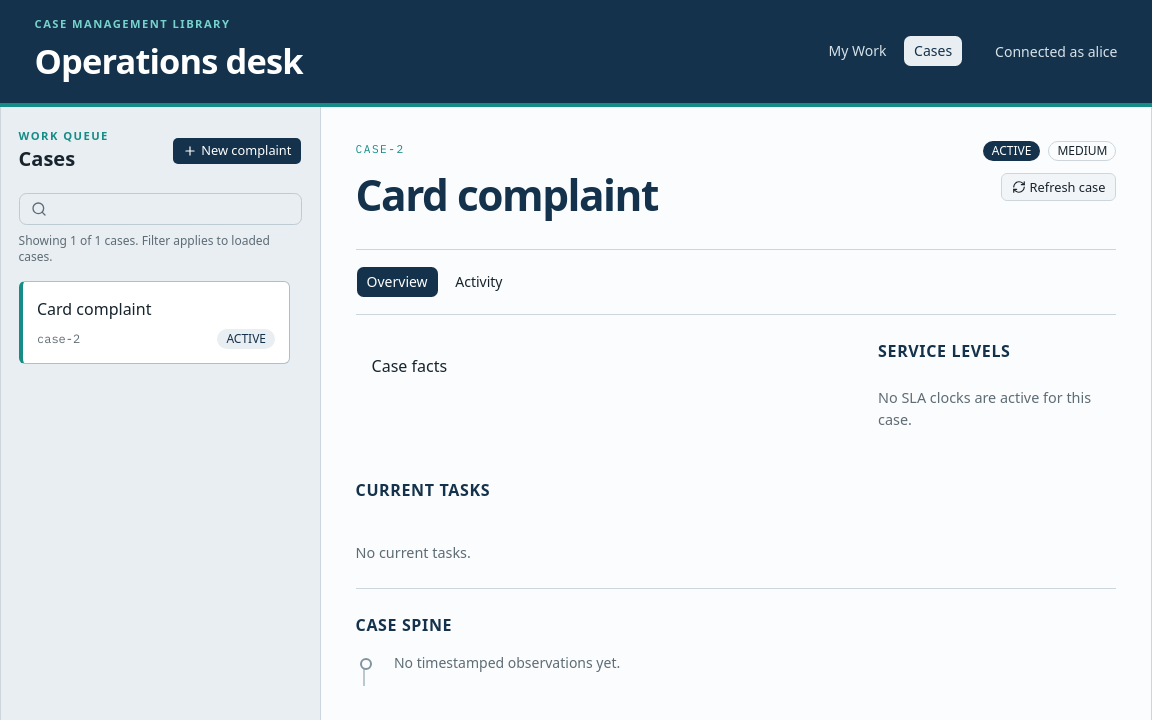
Test: case demo › opens a work item in the shared case workspace
What coordinates should you click on to do the following:
click the button "My Work"
I would click on:
 (858, 51)
Its box is [818, 35, 898, 67].
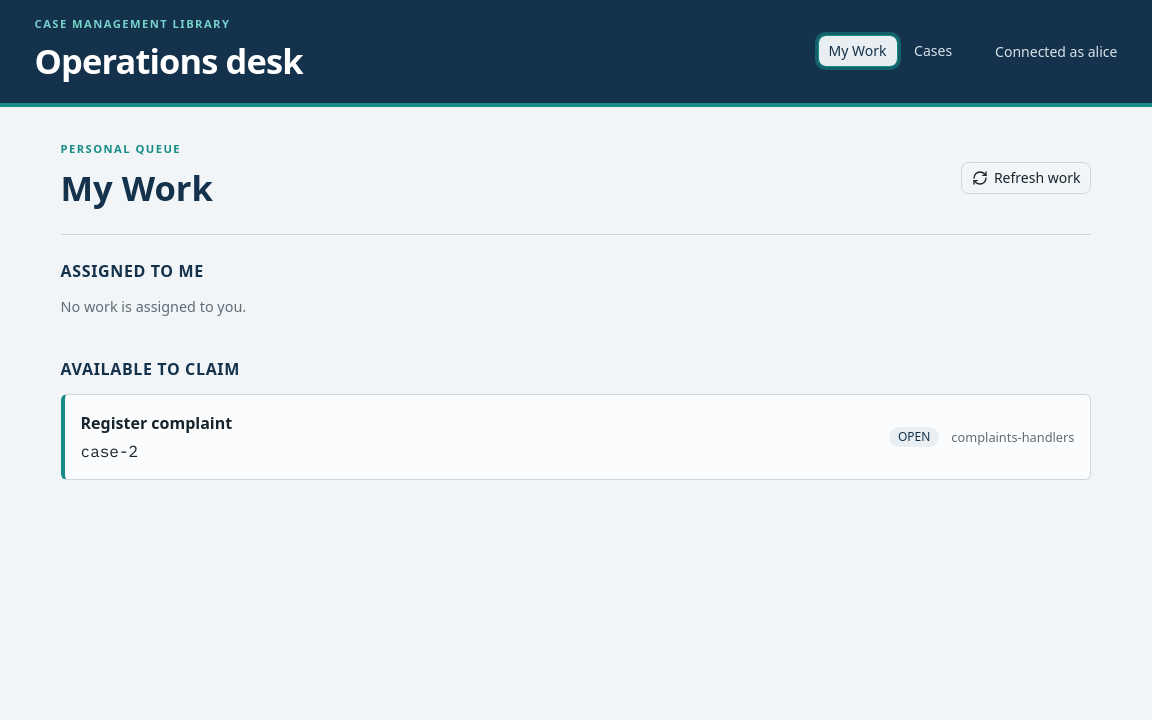
What coordinates should you click on to do the following:
click the button "Register complaint case-2 OPEN complaints-handlers"
I would click on:
 (156, 423)
Its box is [60, 394, 1091, 480].
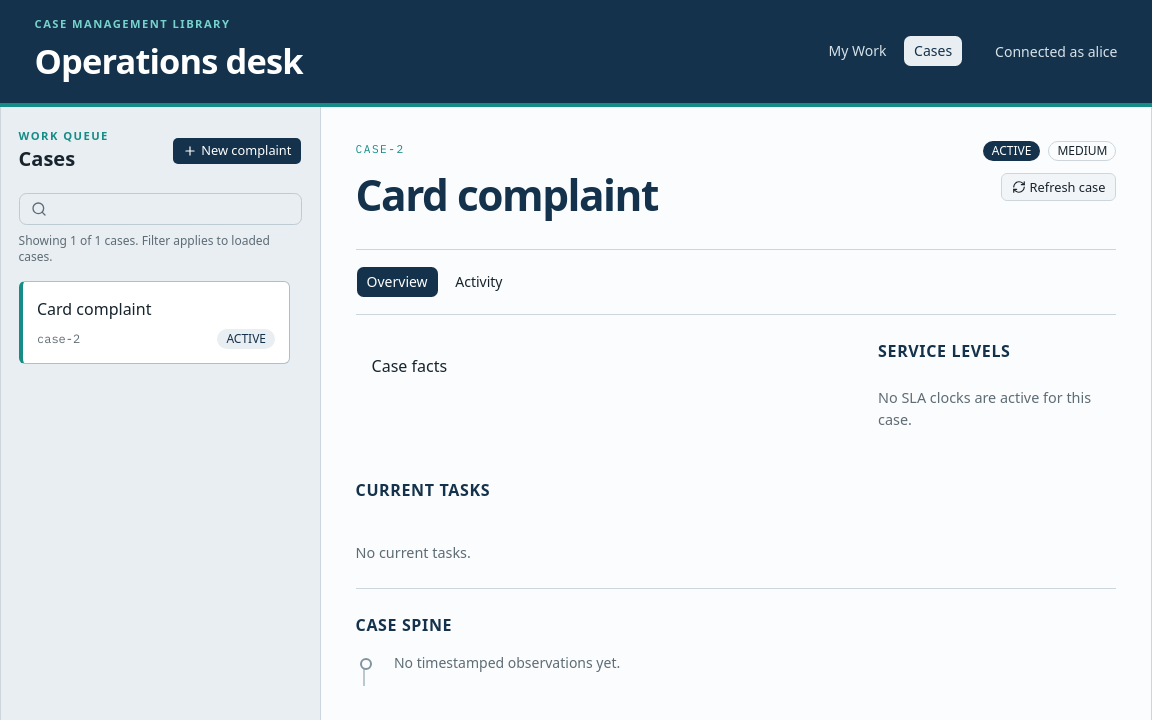
Now the heading "Card complaint" is shown, box [356, 163, 658, 226]
